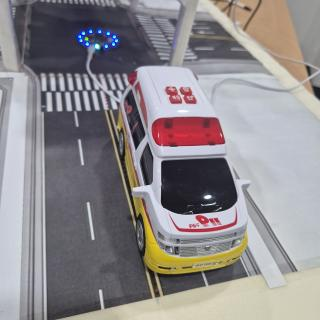Ambulance: (119, 67, 250, 272)
